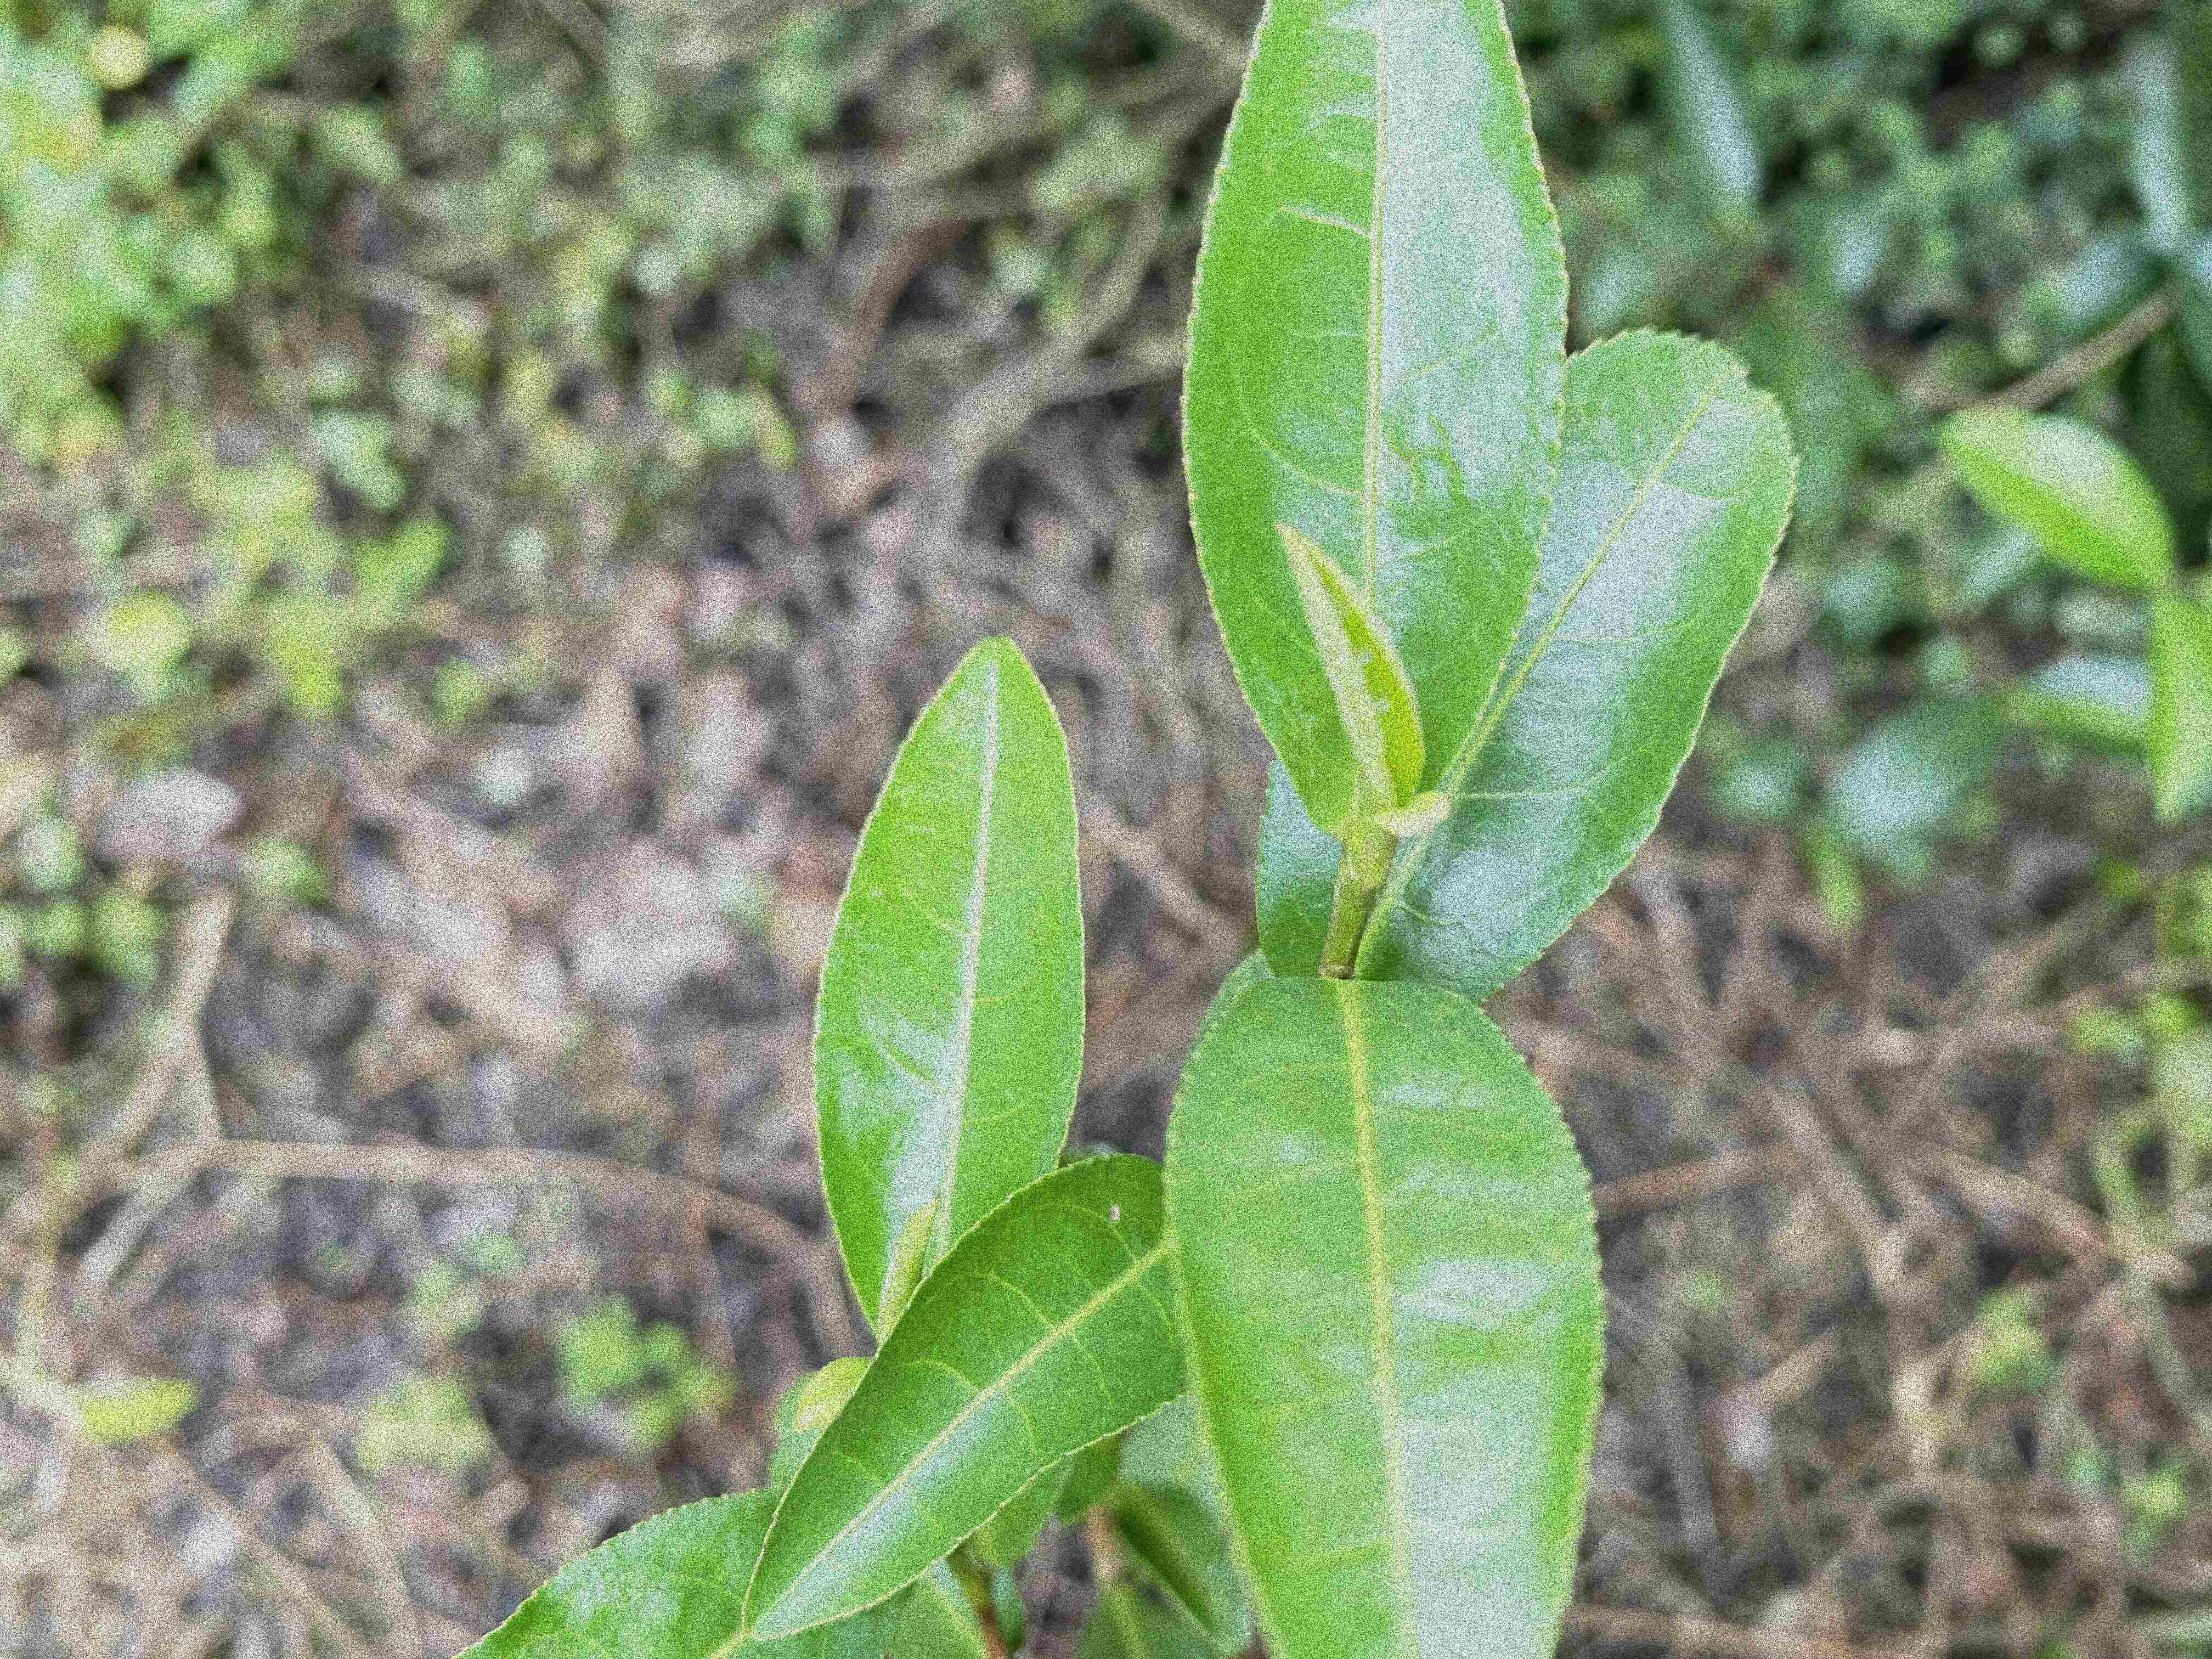healthy: (1252, 328, 1799, 1002), (1179, 3, 1569, 842), (1162, 978, 1606, 1656), (806, 638, 1085, 1344)
tanju_low: (738, 1150, 1193, 1643)
